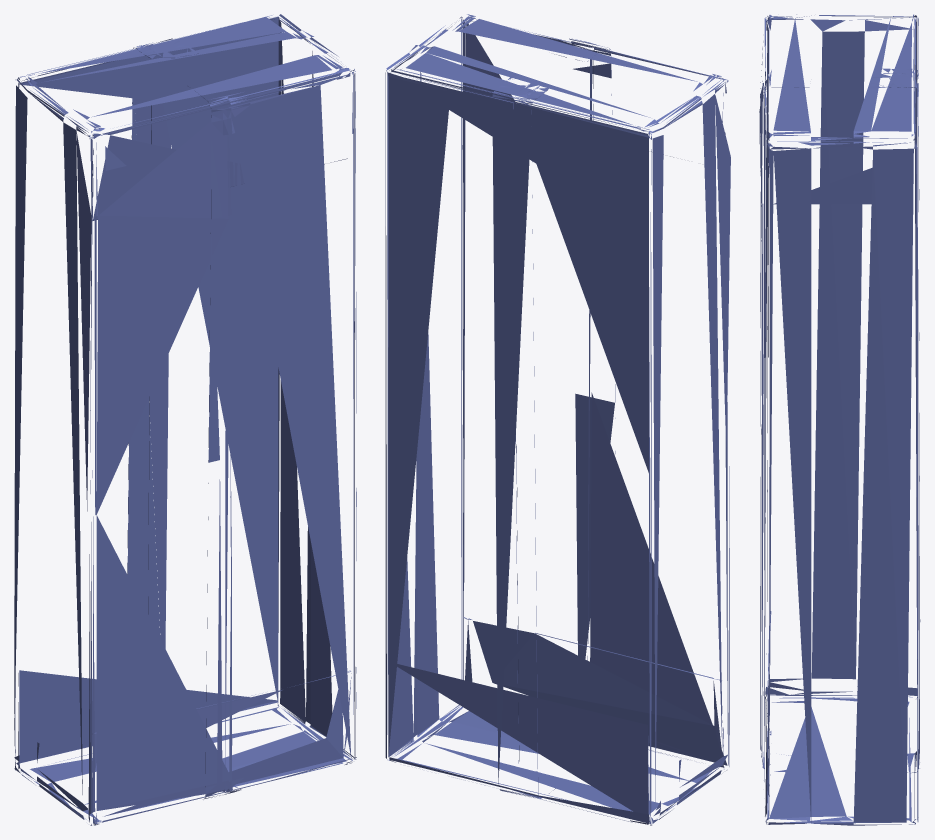
File: box_long_a02.glb
3 views of the same model, side by side, from view 1: azimuth 30°, elevation 25°; view 2: azimuth 150°, elevation 25°; view 3: azimuth 270°, elevation 25° (orthographic).
Parts seen in each view (by area): view 1: geometry_0; view 2: geometry_0; view 3: geometry_0.
Boxes of the visible parts, box(x1,y1,x2,y2) form: geometry_0: box(14, 14, 356, 825); geometry_0: box(385, 14, 730, 825); geometry_0: box(759, 14, 920, 825).
Bounding box in the file's own units: 0.1941 × 0.48 × 0.1014.
